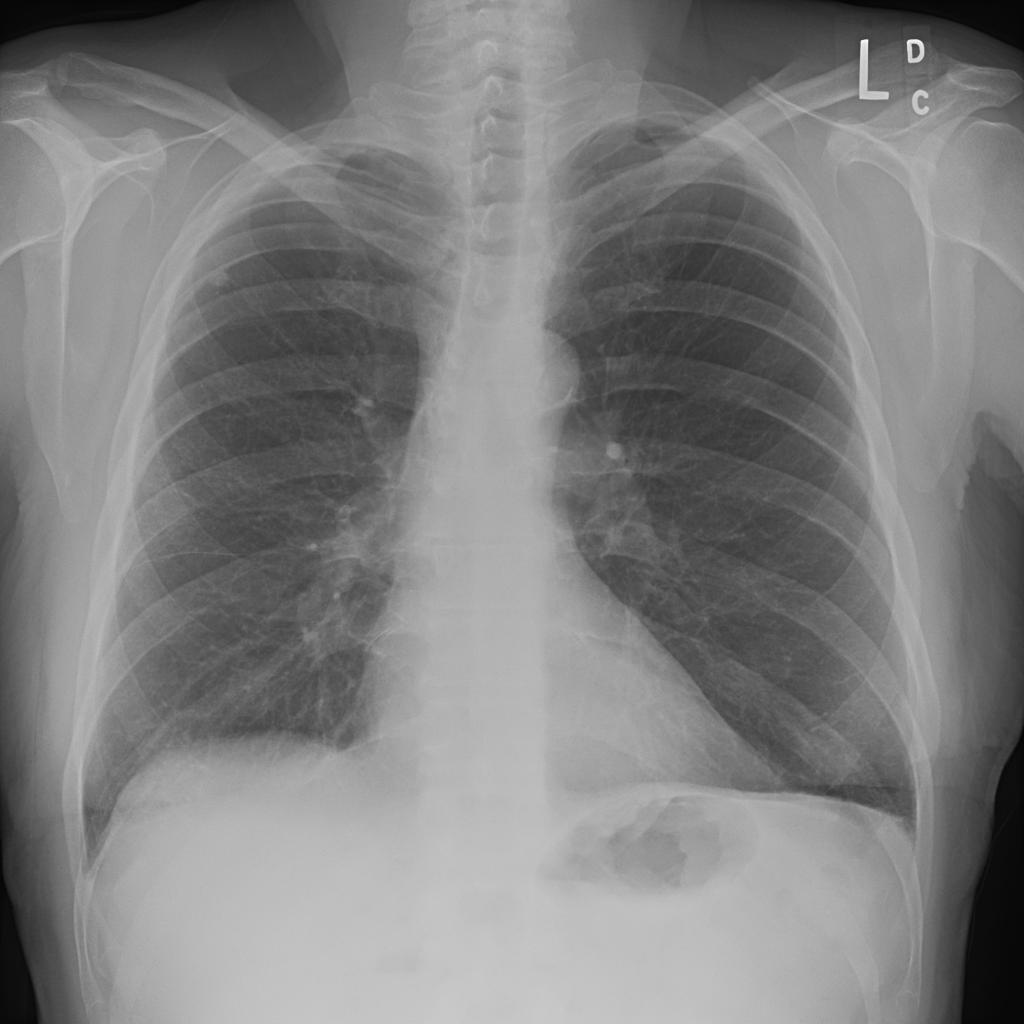Nodule: (100, 129, 124, 153)
